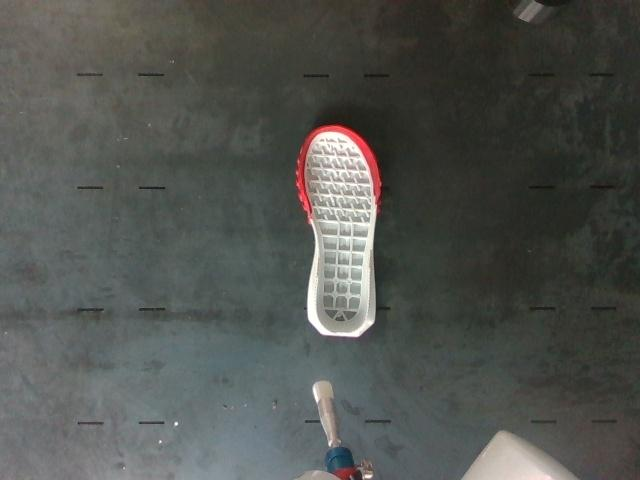shoes: (301, 127, 379, 334)
